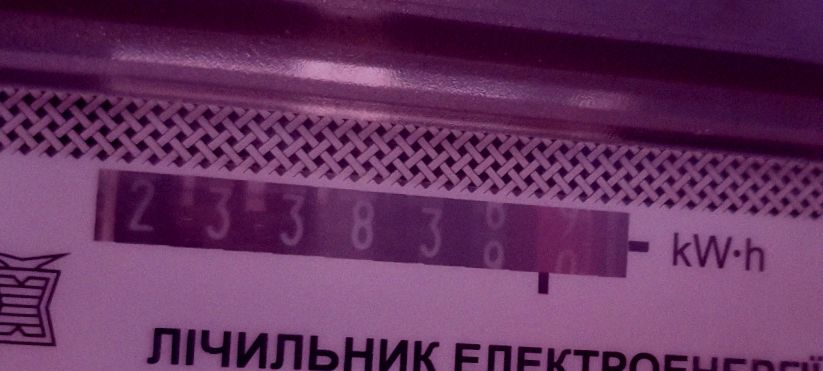0: (552, 245, 579, 280)
2: (121, 173, 162, 235)
3: (271, 186, 310, 251), (203, 182, 233, 241), (416, 200, 446, 258)
8: (344, 193, 379, 253), (482, 197, 509, 230)
9: (551, 201, 583, 241), (479, 235, 508, 272)
screen: (62, 145, 660, 323)
